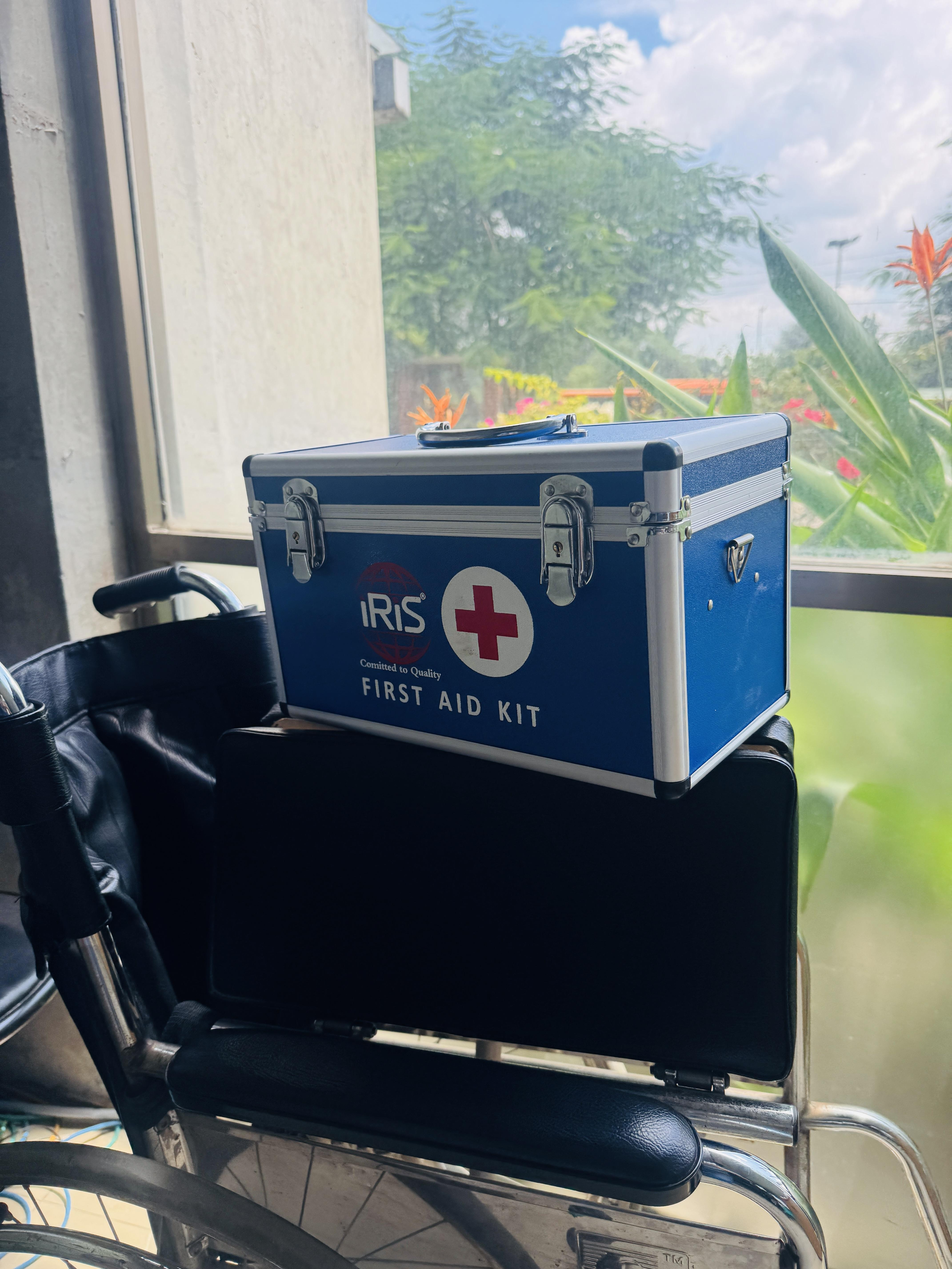FirstAidBox: (218, 393, 824, 817)
